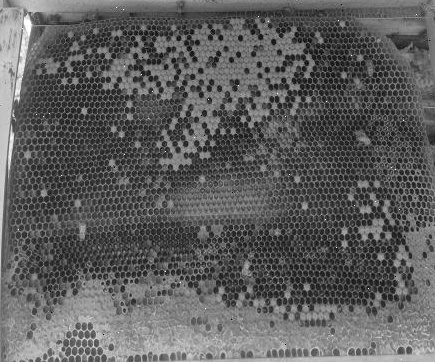cria: (31, 17, 316, 181), (338, 173, 412, 305), (216, 280, 338, 320)
